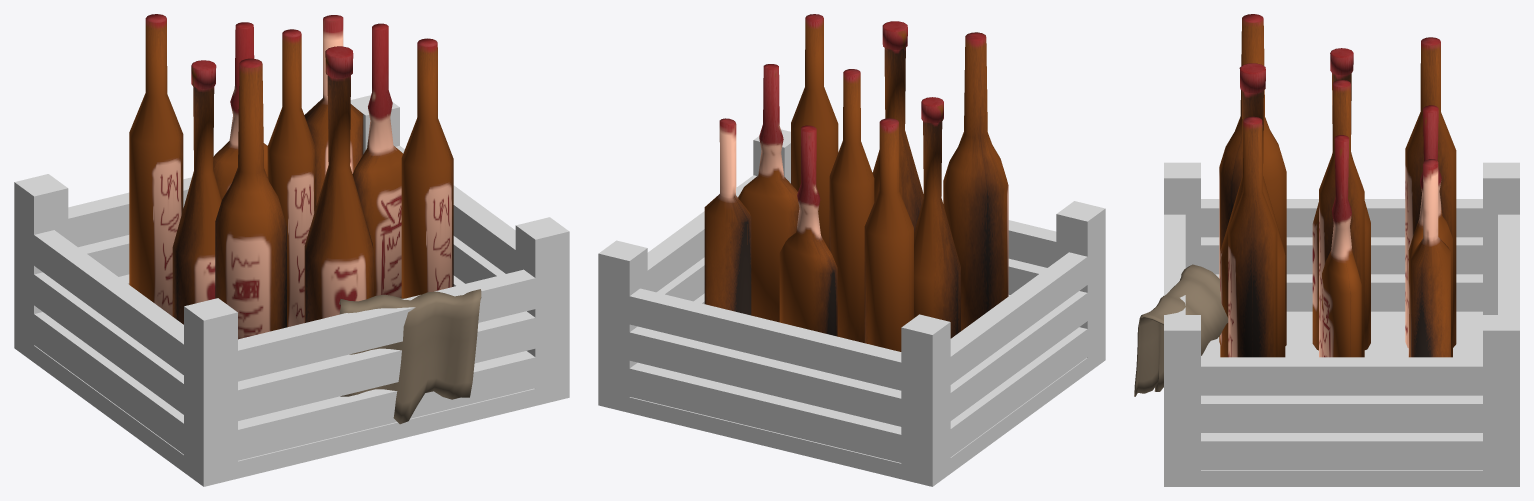
The model's file is CellarBottleCrate.fbx.
3 views of the same model, side by side, from view 1: azimuth 30°, elevation 25°; view 2: azimuth 150°, elevation 25°; view 3: azimuth 270°, elevation 25° (orthographic). The views are drawn at different scales.
Parts seen in each view (by area): view 1: Part_WineSupplyCrate, Part_CrateWineBottle, Part_CrateWineBottle.002, Part_CrateWineBottle.003, Part_CrateWineBottle.006, Part_ReturnCrateLinen, Part_CrateWineBottle.004, Part_CrateWineBottle.007, Part_CrateWineBottle.001, Part_CrateWineBottle.008, Part_CrateWineBottle.005; view 2: Part_WineSupplyCrate, Part_CrateWineBottle, Part_CrateWineBottle.002, Part_CrateWineBottle.004, Part_CrateWineBottle.007, Part_CrateWineBottle.005, Part_CrateWineBottle.001, Part_CrateWineBottle.008, Part_CrateWineBottle.006, Part_CrateWineBottle.003; view 3: Part_WineSupplyCrate, Part_CrateWineBottle.006, Part_CrateWineBottle.008, Part_CrateWineBottle.007, Part_CrateWineBottle.002, Part_CrateWineBottle, Part_ReturnCrateLinen, Part_CrateWineBottle.004, Part_CrateWineBottle.003, Part_CrateWineBottle.001, Part_CrateWineBottle.005.
Boxes of the visible parts, x1,y1,x2,y2 form: Part_WineSupplyCrate: (14,95,569,486); Part_CrateWineBottle: (215,58,286,339); Part_CrateWineBottle.002: (129,14,183,316); Part_CrateWineBottle.003: (304,46,373,322); Part_CrateWineBottle.006: (401,38,453,298); Part_ReturnCrateLinen: (339,289,481,424); Part_CrateWineBottle.004: (267,29,316,327); Part_CrateWineBottle.007: (352,23,402,298); Part_CrateWineBottle.001: (172,60,221,324); Part_CrateWineBottle.008: (304,15,363,205); Part_CrateWineBottle.005: (213,22,267,199); Part_WineSupplyCrate: (598,129,1105,486); Part_CrateWineBottle: (943,32,1008,330); Part_CrateWineBottle.002: (864,118,913,351); Part_CrateWineBottle.004: (829,69,874,342); Part_CrateWineBottle.007: (738,64,799,322); Part_CrateWineBottle.005: (779,125,837,336); Part_CrateWineBottle.001: (914,97,960,338); Part_CrateWineBottle.008: (704,118,751,315); Part_CrateWineBottle.006: (791,14,838,249); Part_CrateWineBottle.003: (872,21,923,231); Part_WineSupplyCrate: (1164,162,1519,486); Part_CrateWineBottle.006: (1228,116,1277,357); Part_CrateWineBottle.008: (1410,159,1450,357); Part_CrateWineBottle.007: (1322,135,1361,357); Part_CrateWineBottle.002: (1405,37,1456,347); Part_CrateWineBottle: (1219,14,1286,345); Part_ReturnCrateLinen: (1134,264,1228,396); Part_CrateWineBottle.004: (1319,80,1364,357); Part_CrateWineBottle.003: (1220,63,1285,357); Part_CrateWineBottle.001: (1312,48,1370,350); Part_CrateWineBottle.005: (1408,105,1452,357).
Bounding box in the file's own units: 0.58 × 0.5544 × 0.5635.
